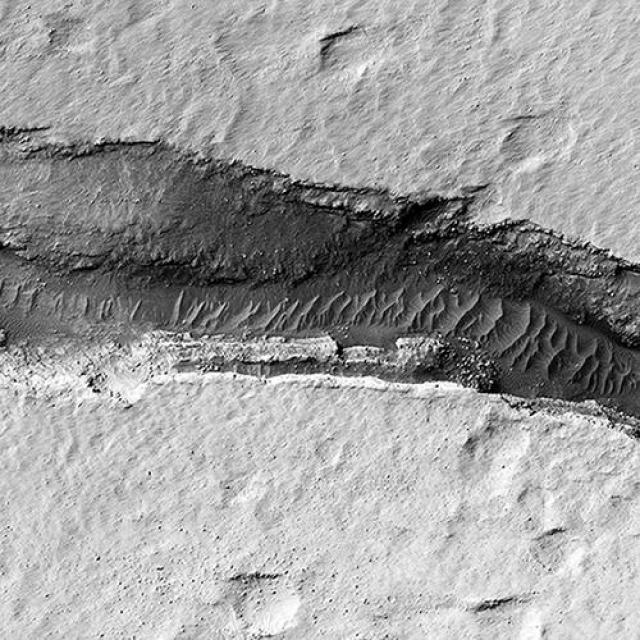crater: (0, 426, 93, 625), (442, 401, 545, 513), (211, 551, 312, 640), (489, 101, 590, 186), (310, 1, 398, 95), (35, 4, 126, 82), (457, 581, 573, 640), (138, 626, 225, 640)
